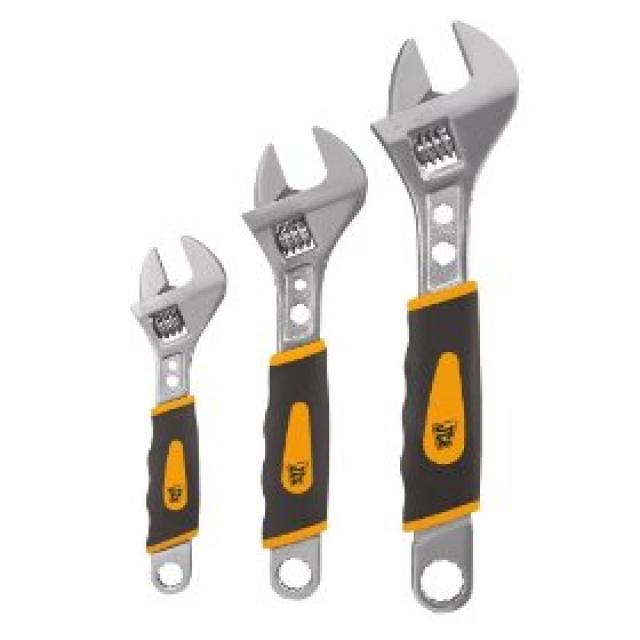wrench: (363, 6, 533, 636), (227, 117, 370, 608), (118, 231, 245, 606)
